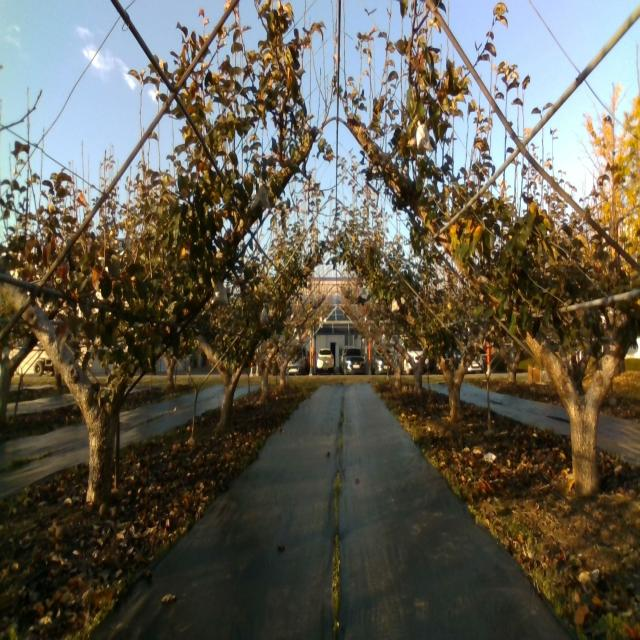pearbags: (416, 120, 433, 152), (211, 280, 228, 305), (252, 186, 270, 208)
